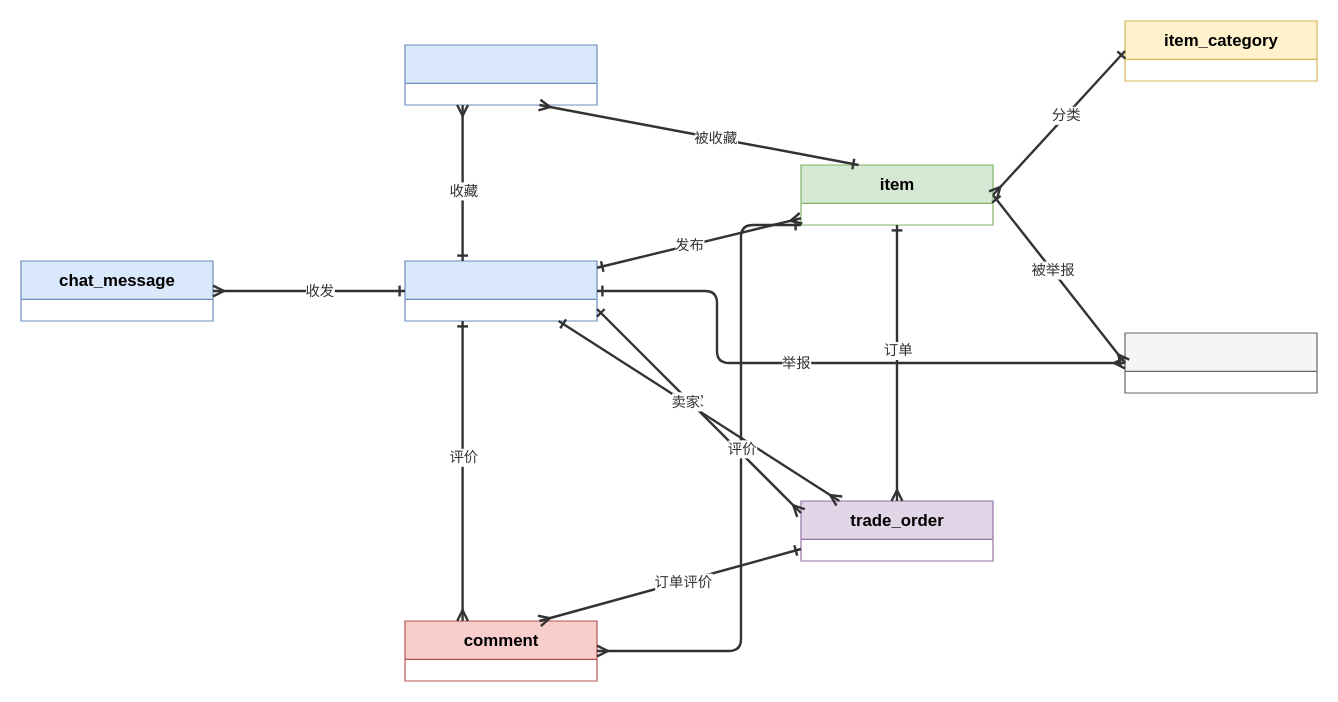
Some shapes in this 1338 by 702 pixel diagram are drawn without their labels. Each missing label, with the centre of its shape:
item_want: point 500,74
report: point 1220,362
sys_user: point 500,290
